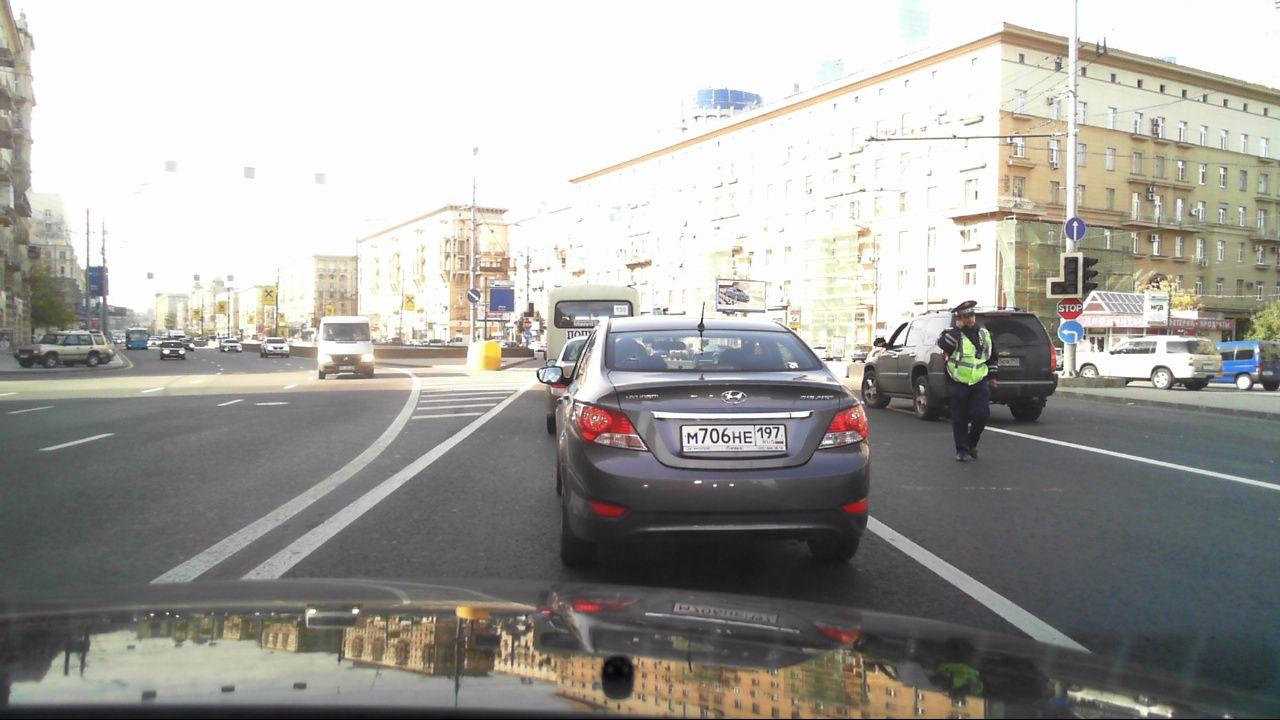2_5: (1058, 296, 1083, 320), (521, 320, 534, 329)
4_1_1: (1064, 216, 1087, 241)
4_1_3: (1057, 320, 1086, 345), (522, 332, 532, 342)
4_2_1: (466, 287, 481, 303)
